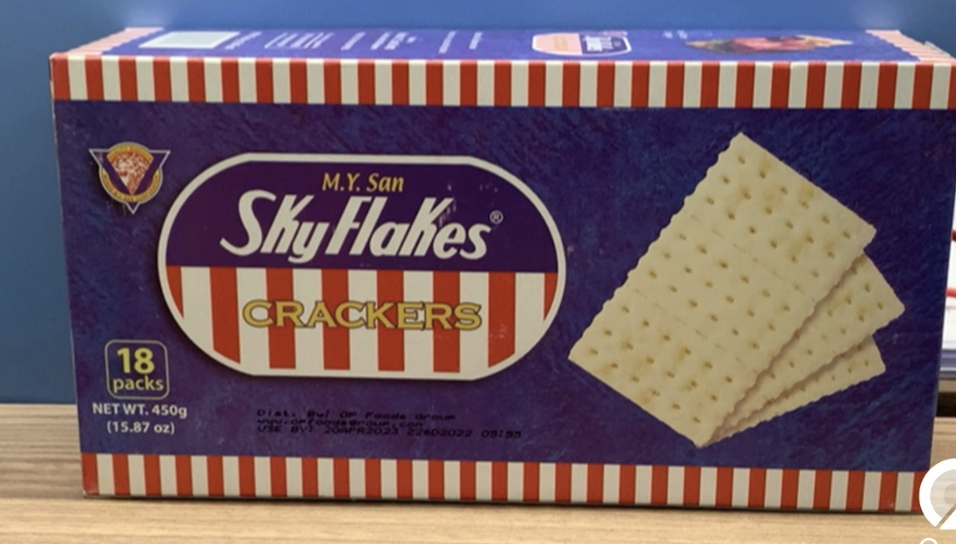crackers_400g-499g: (84, 82, 909, 466)
